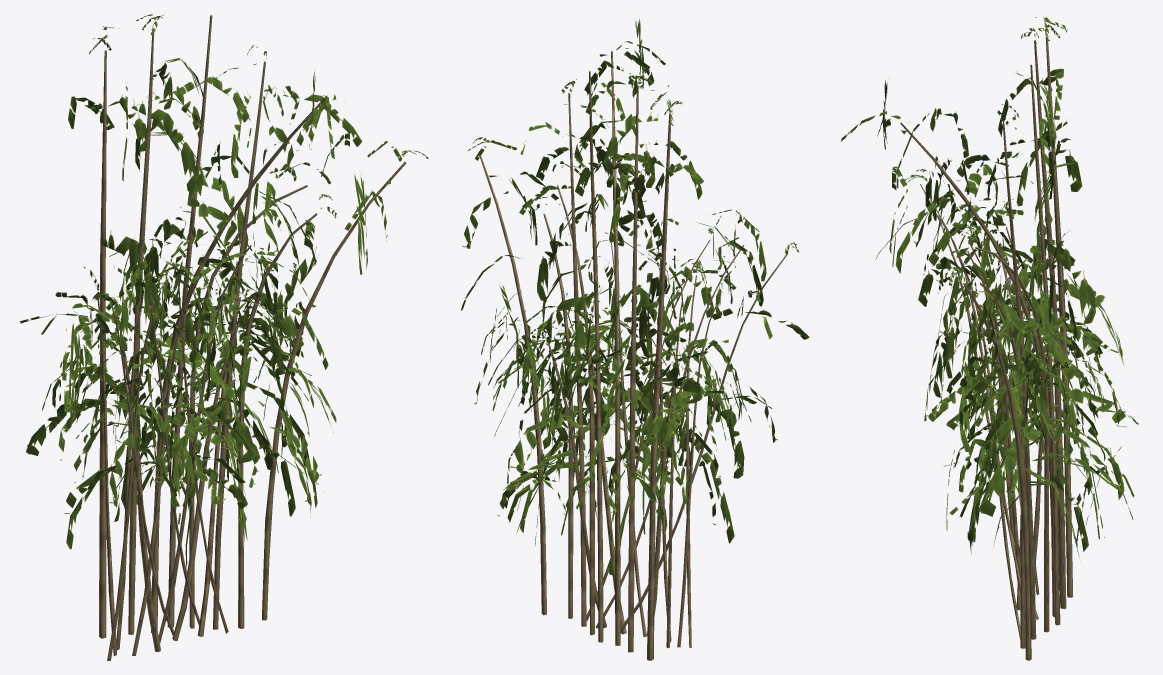
File: cn_bamboo.glb
The picture shows the model from 3 angles, left to right: view 1: azimuth 30°, elevation 25°; view 2: azimuth 150°, elevation 25°; view 3: azimuth 270°, elevation 25°; orthographic projection. The views are drawn at different scales.
Parts seen in each view (by area): view 1: cn_bamboo; view 2: cn_bamboo; view 3: cn_bamboo.
Part boxes in pixels (box(x1,y1,x2,y2)): cn_bamboo: box(20, 14, 428, 660); cn_bamboo: box(461, 19, 809, 660); cn_bamboo: box(841, 17, 1138, 660).
Bounding box in the file's own units: 4.56 × 7.4 × 3.56.
2 materials, 2 textured.
